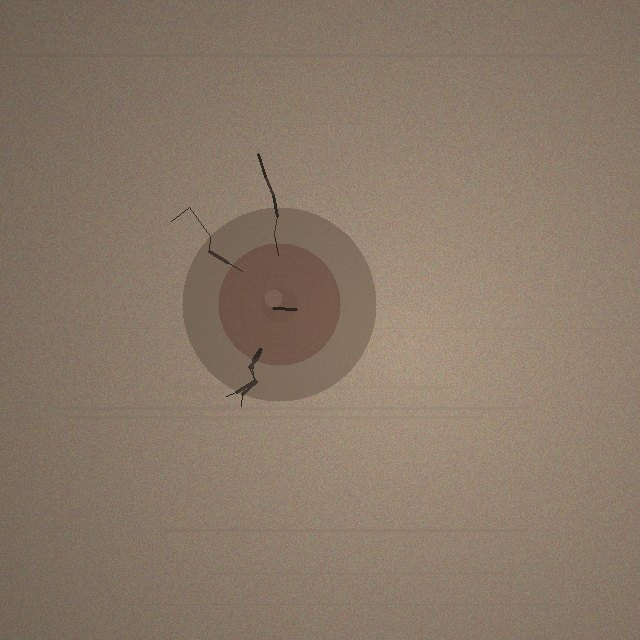crack: (182, 207, 376, 401)
